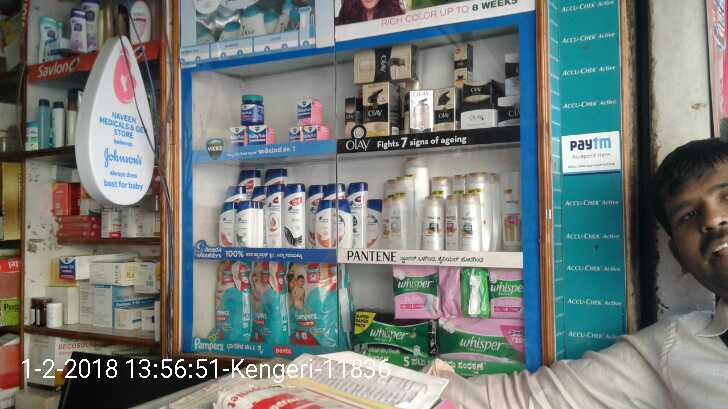beauty: (352, 42, 414, 81), (363, 81, 390, 139), (280, 184, 304, 247), (419, 193, 442, 250), (264, 184, 282, 250), (408, 88, 432, 136), (461, 193, 481, 250), (384, 194, 404, 250), (442, 197, 460, 250), (363, 197, 382, 247), (434, 88, 456, 131), (451, 42, 471, 87), (332, 197, 350, 246), (235, 200, 251, 249), (339, 94, 360, 131), (315, 199, 330, 249), (461, 81, 492, 103), (221, 200, 234, 245)
pharmacy: (287, 260, 349, 348), (351, 307, 435, 357), (435, 318, 523, 360), (250, 261, 290, 347), (213, 260, 254, 343), (389, 268, 458, 315), (241, 90, 263, 124), (248, 127, 274, 147), (228, 125, 248, 150), (304, 126, 329, 144), (298, 98, 316, 122), (287, 128, 300, 143)
